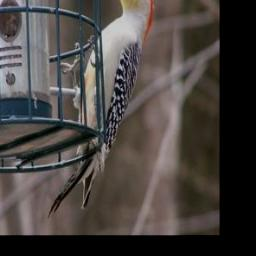Woodpecker: (47, 0, 156, 219)
